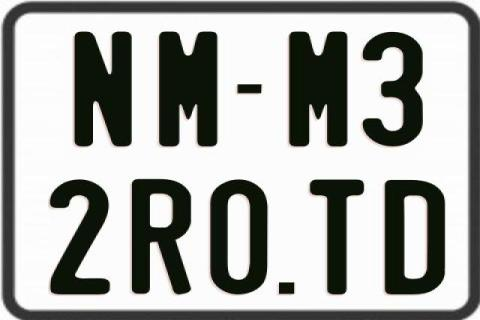0: (47, 177, 109, 296), (362, 32, 423, 150), (210, 177, 271, 293)
D: (384, 178, 450, 296)
M: (289, 32, 352, 149), (156, 30, 214, 148)
N: (71, 29, 133, 145)
R: (131, 179, 191, 295)
T: (308, 179, 365, 295)
